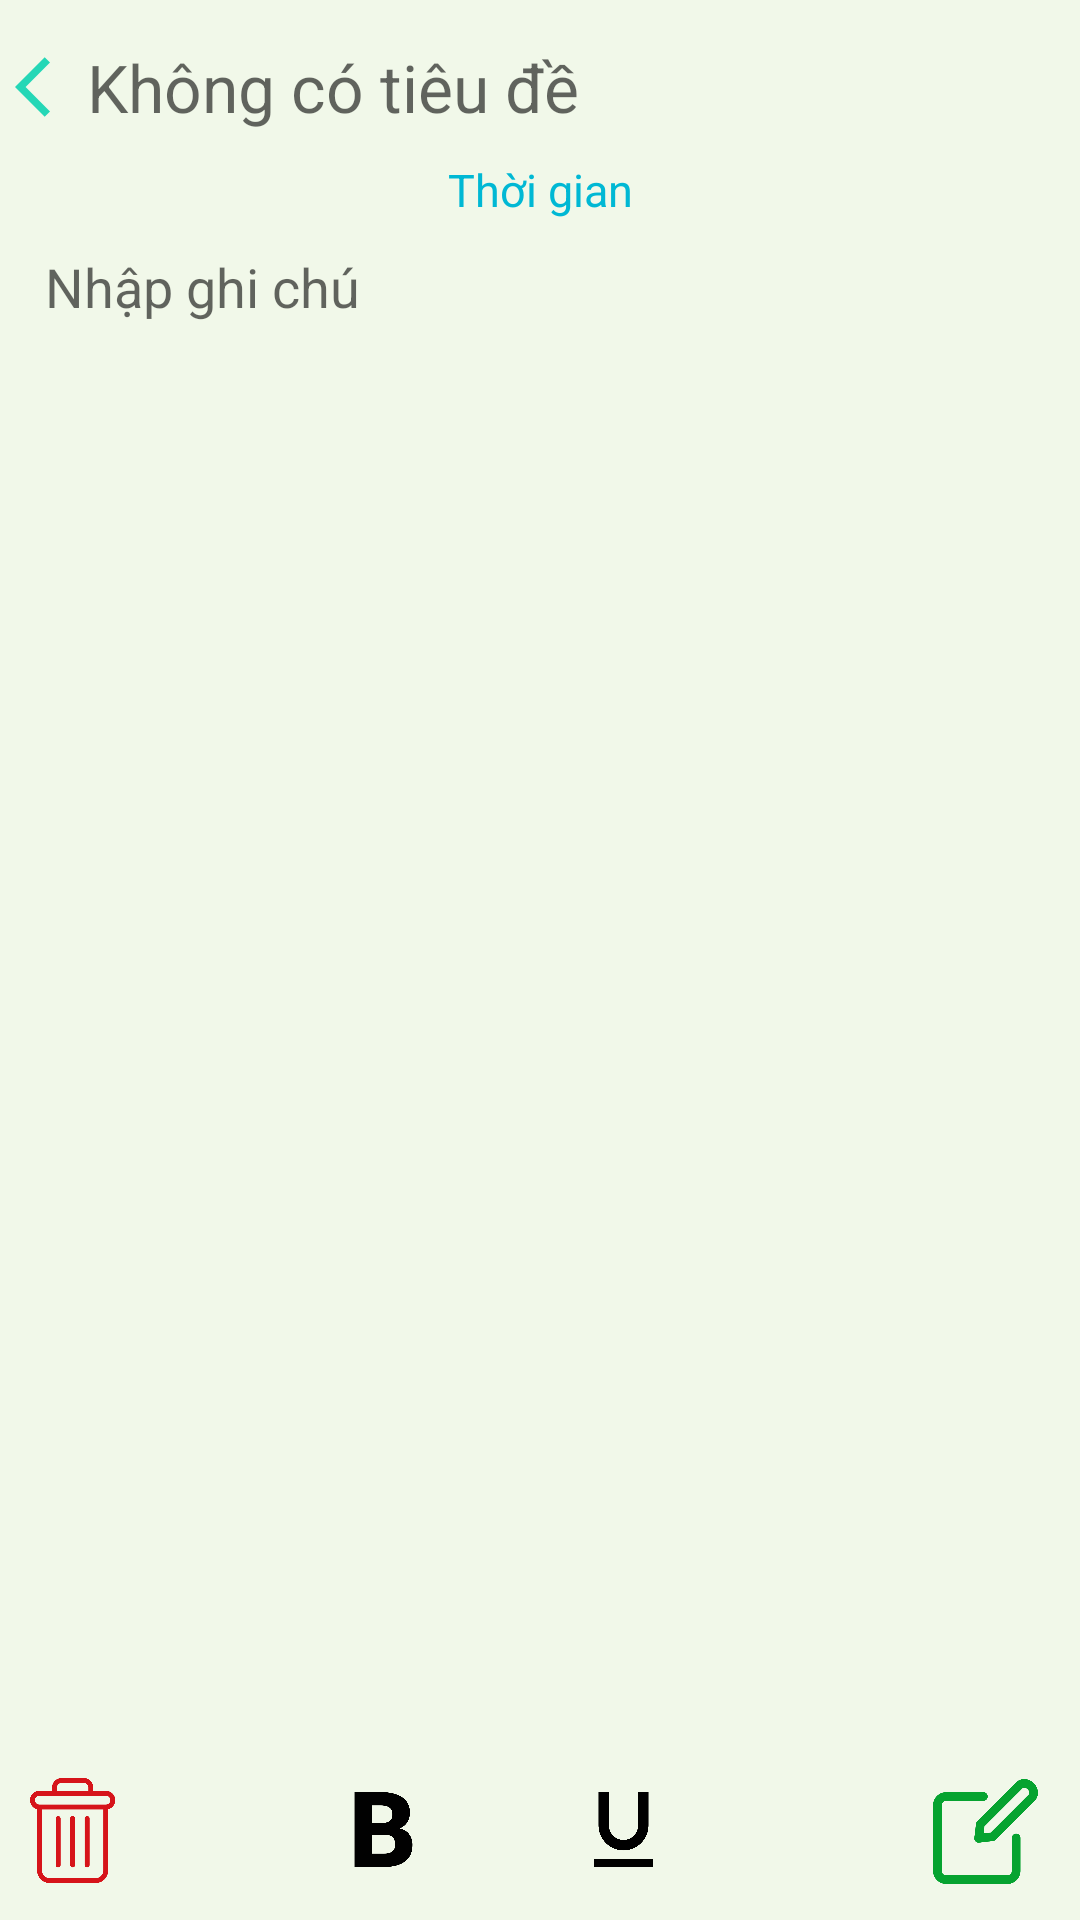

Where icons sit on this 1080px×1920px app screen, as (x1, y1, x2, y2):
indam: (354, 1792, 413, 1867)
ingachchan: (594, 1792, 653, 1867)
taobanghimoi: (933, 1779, 1038, 1884)
thungrac: (30, 1778, 115, 1883)
